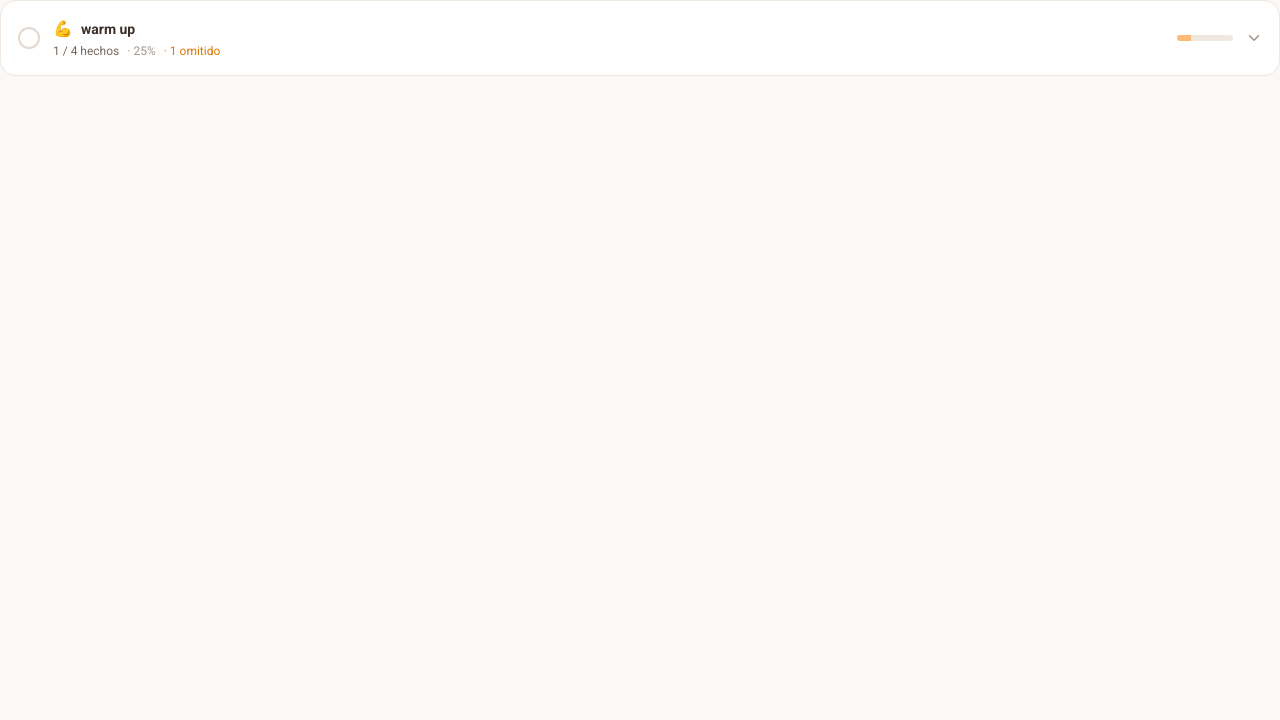
Test: lo resuelto en una línea › corregir un dato dentro del grupo lo vuelve a cerrar
What coordinates should you click on to do the following:
click the text "warm up"
I would click on:
 (108, 29)
Its box is [81,19,135,39].
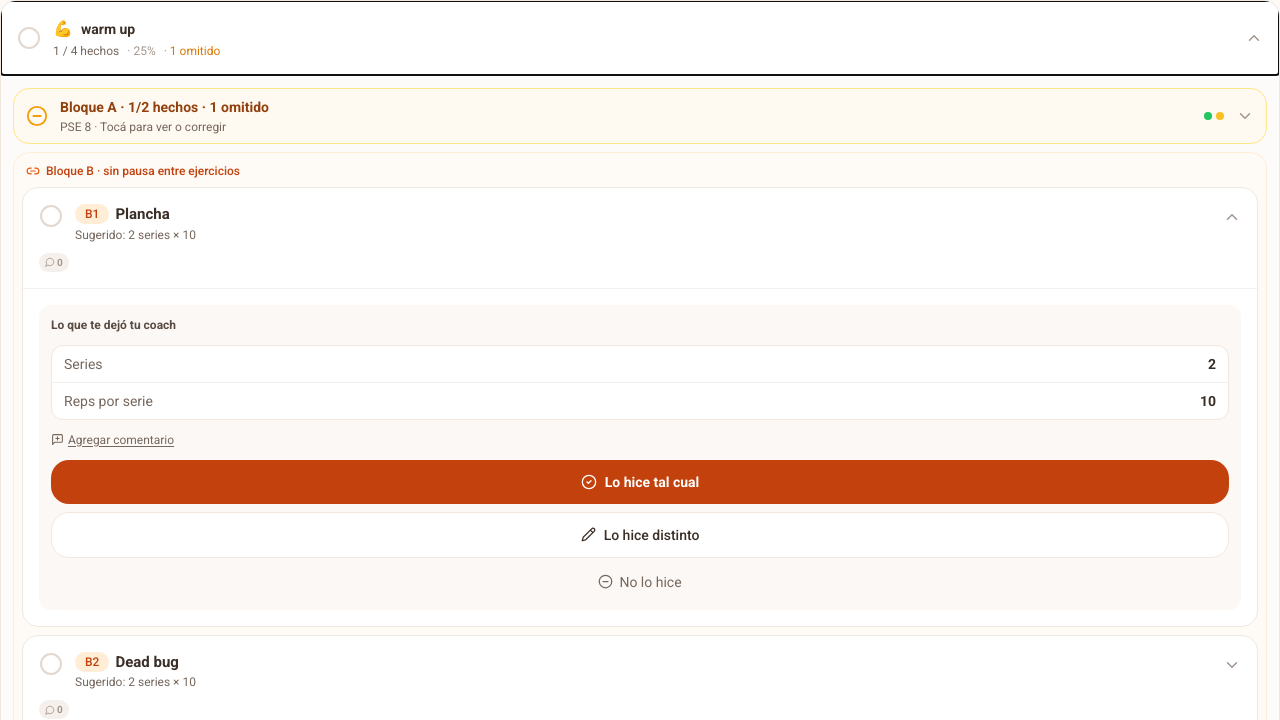
What coordinates should you click on to do the following:
click the text "Bloque A · 1/2 hechos · 1 omitido"
I would click on:
 (164, 107)
Its box is [60,99,269,115].
(page scrolled)
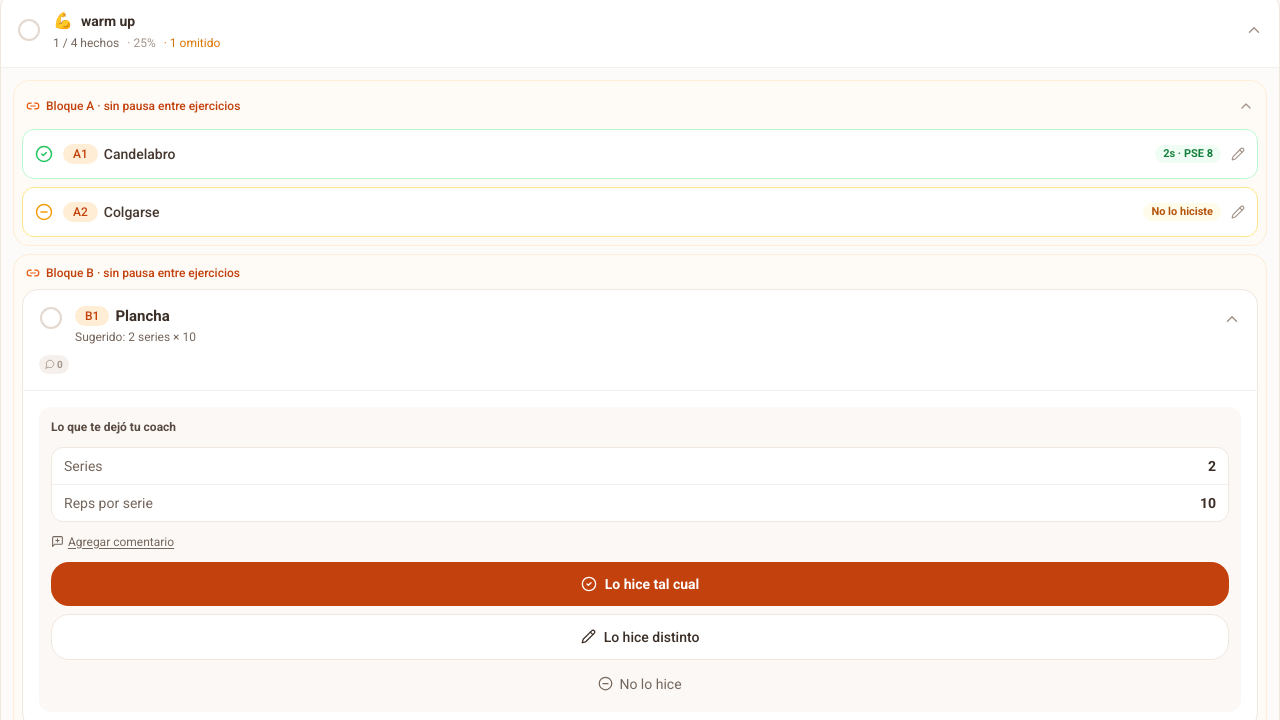
What coordinates should you click on to do the following:
click the button with aria-label "ver o corregir colgarse"
I would click on:
 (80, 212)
Its box is [23,188,1257,236].
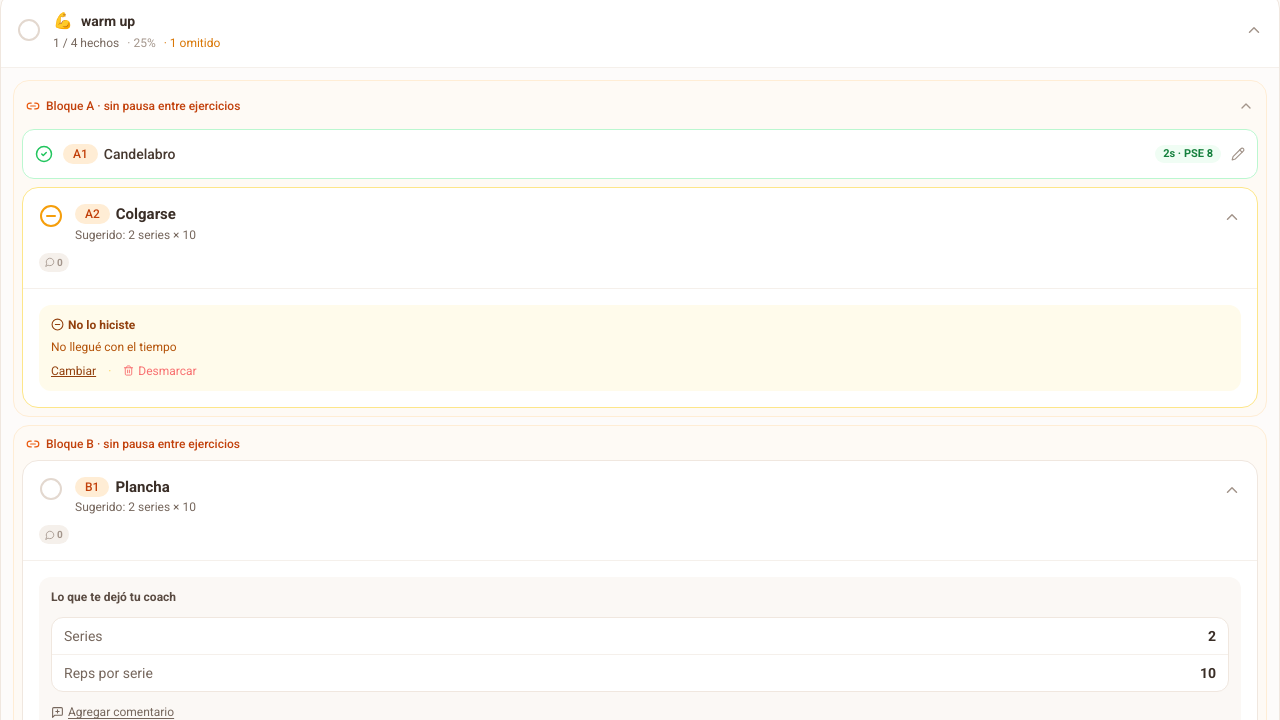
What coordinates should you click on to do the following:
click the button "Cambiar"
I would click on:
 (74, 371)
Its box is [51,363,96,379].
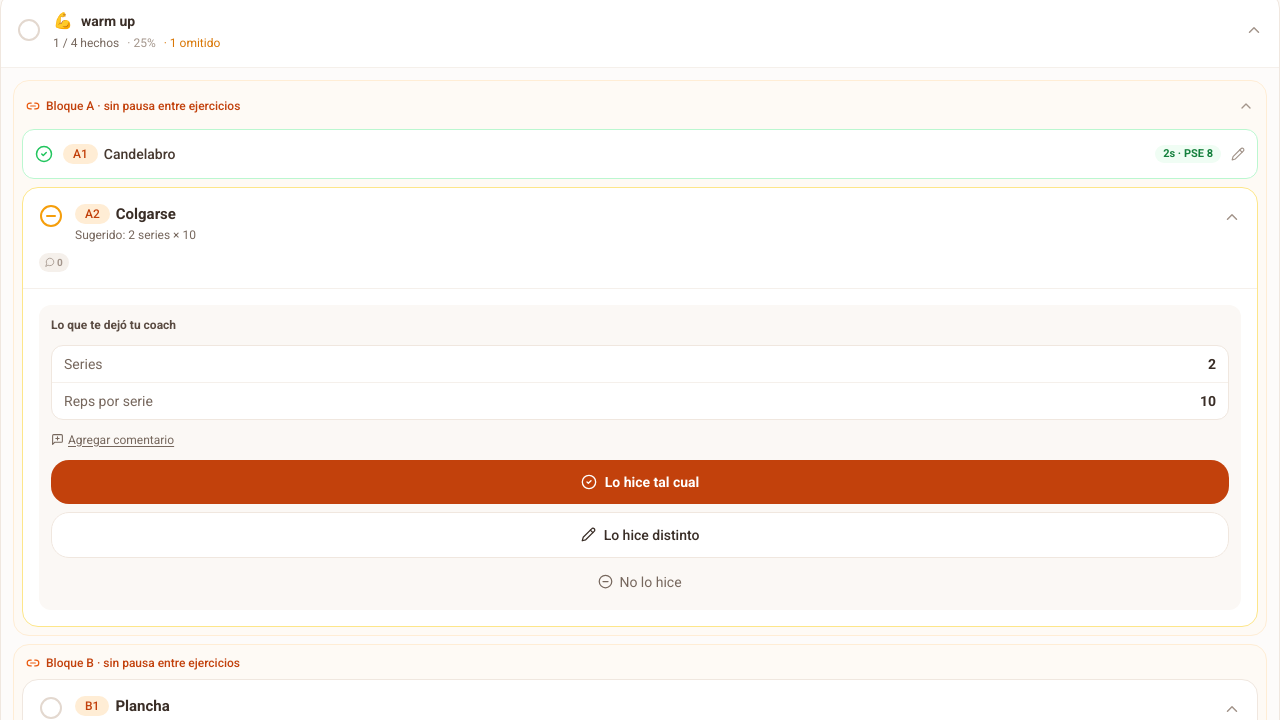
What coordinates should you click on to do the following:
click the button "Lo hice tal cual"
I would click on:
 (640, 482)
Its box is [51,460,1229,504].
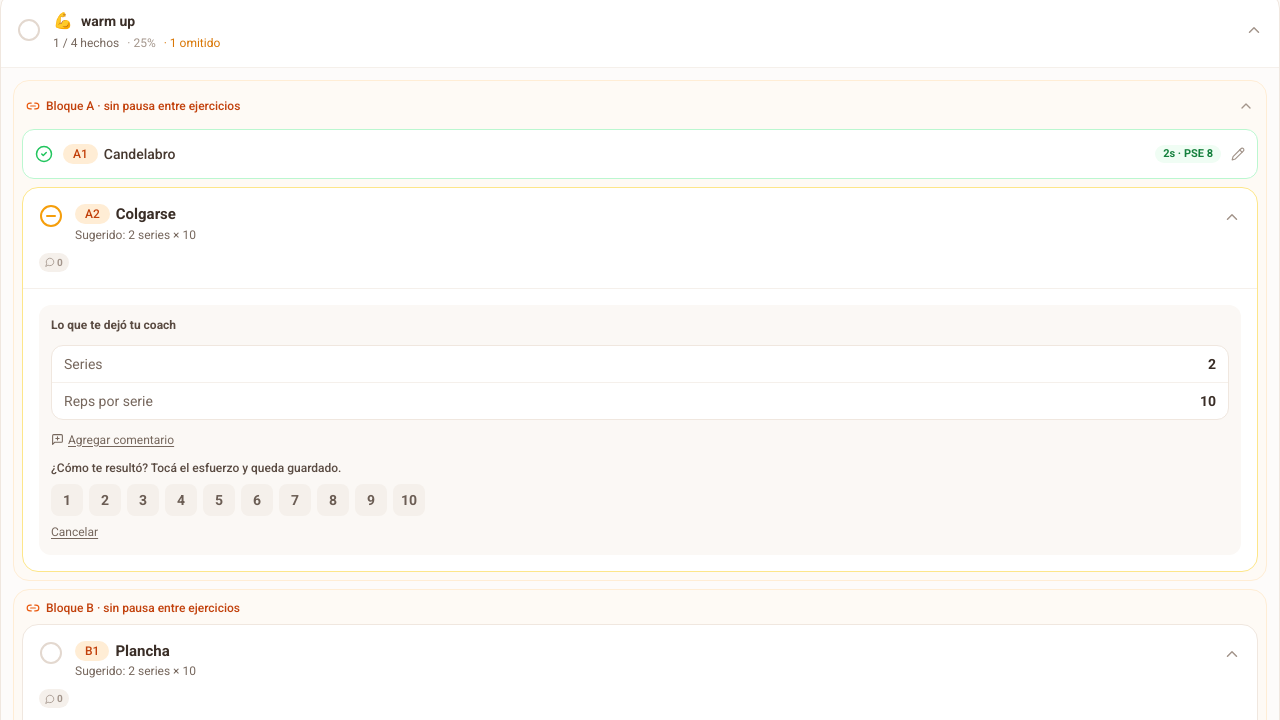
What coordinates should you click on to do the following:
click the button named "PSE 7"
I would click on:
 (295, 500)
Its box is [279,484,311,516].
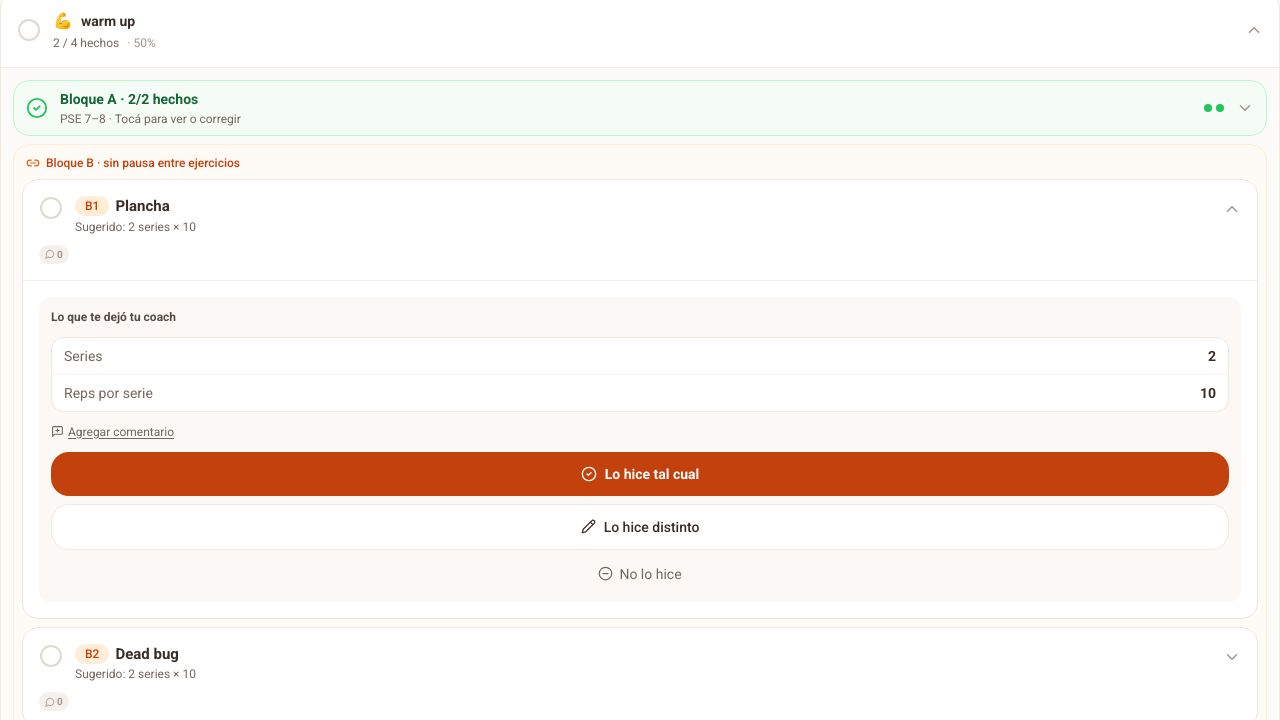
Check: the text "Bloque A · 2/2 hechos" is shown, box [60,91,198,107]
Check: the text "Colgarse" is gone
